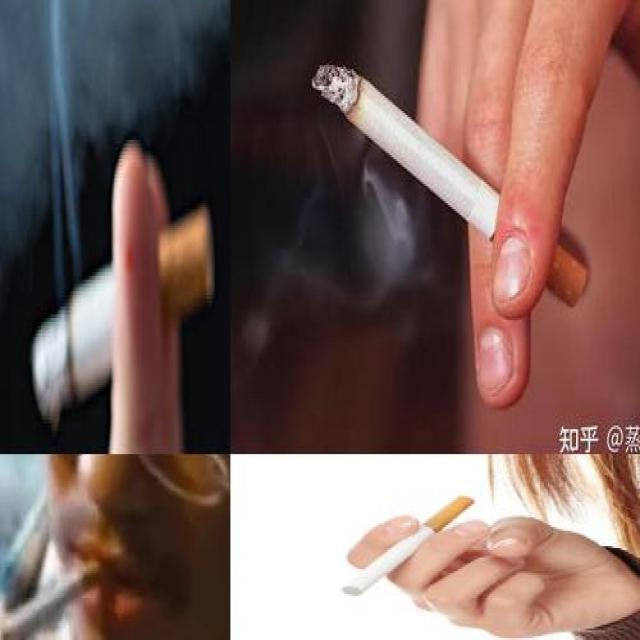rokok: (312, 62, 588, 310), (28, 203, 215, 429), (338, 492, 480, 596), (0, 548, 116, 638)
